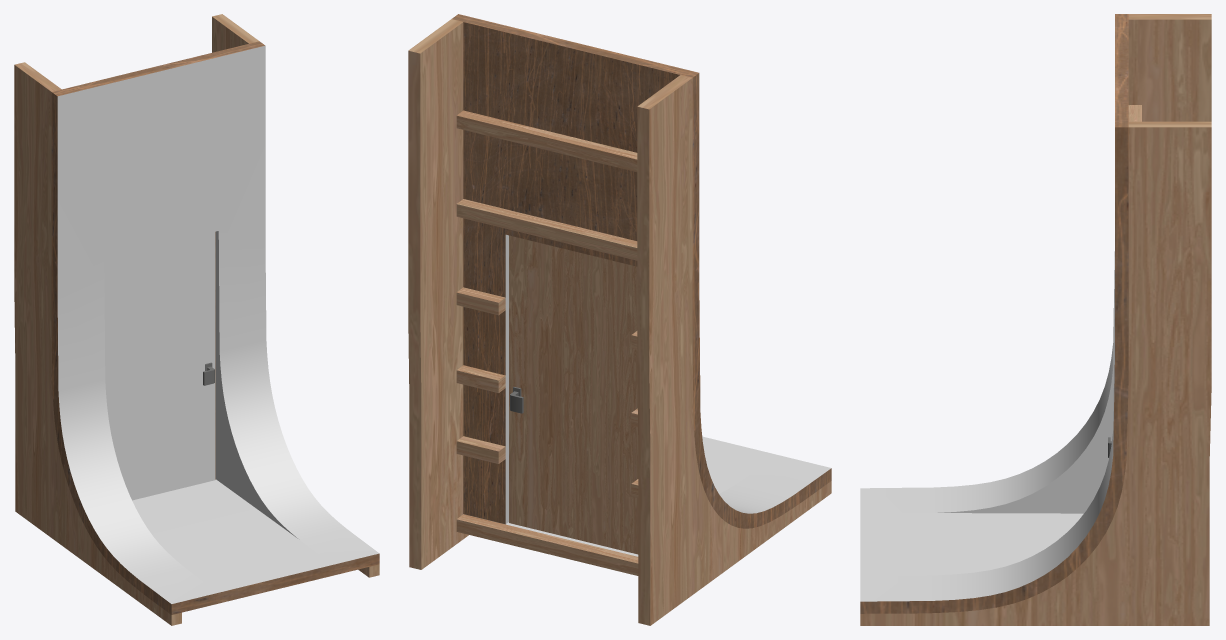
Rendered from GreenScreen_Door.fbx.
3 views of the same model, side by side, from view 1: azimuth 30°, elevation 25°; view 2: azimuth 150°, elevation 25°; view 3: azimuth 270°, elevation 25° (orthographic). The views are drawn at different scales.
Parts seen in each view (by area): view 1: GreenScreen_DoorFrame, GreenScreen_Door; view 2: GreenScreen_DoorFrame, GreenScreen_Door; view 3: GreenScreen_DoorFrame.
Boxes of the visible parts, x1,y1,x2,y2 form: GreenScreen_DoorFrame: (14, 14, 379, 625); GreenScreen_Door: (104, 231, 215, 500); GreenScreen_DoorFrame: (408, 14, 831, 625); GreenScreen_Door: (509, 235, 638, 554); GreenScreen_DoorFrame: (860, 14, 1211, 625).
Size of the model in its own units: 2 by 4.1 by 2.62.
